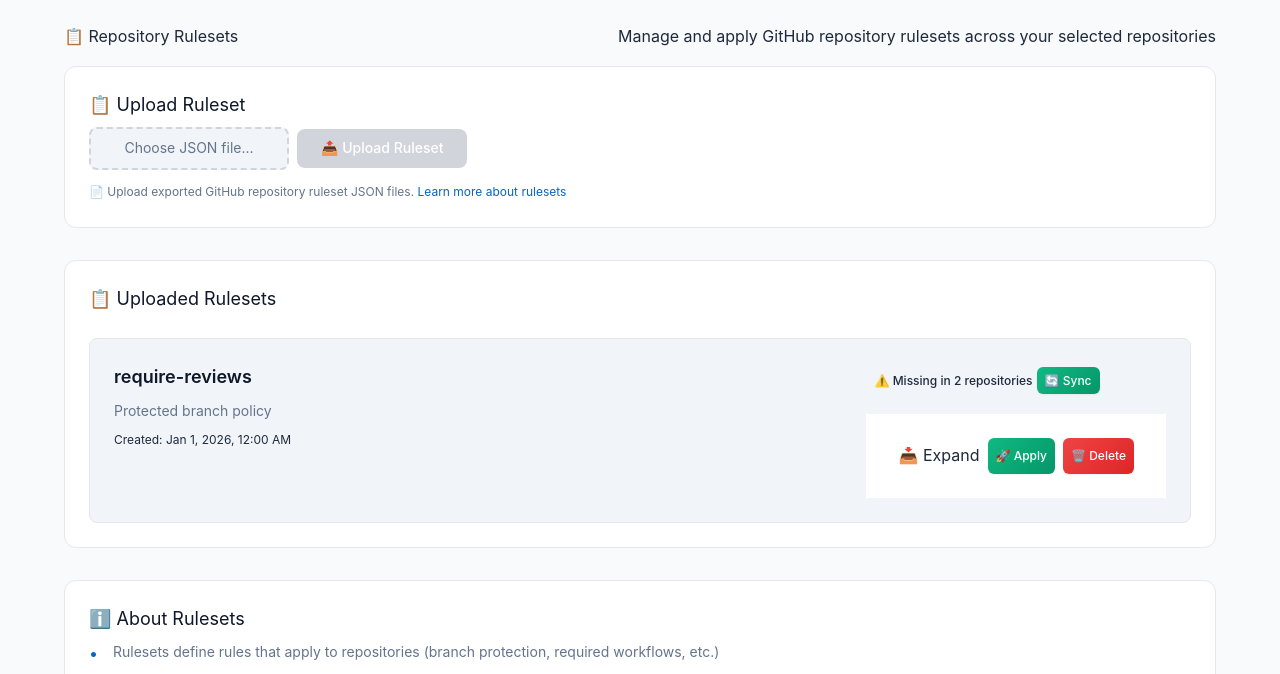
Test: RulesetManager ruleset sync › applies nothing when no repository is confirmed missing
This screenshot has width=1280, height=674.
Expected: the heading "require-reviews" is shown, [114, 366, 252, 387]
Click the button titled "Sync ruleset to missing repositories" at (1068, 381), box [1037, 367, 1100, 394]
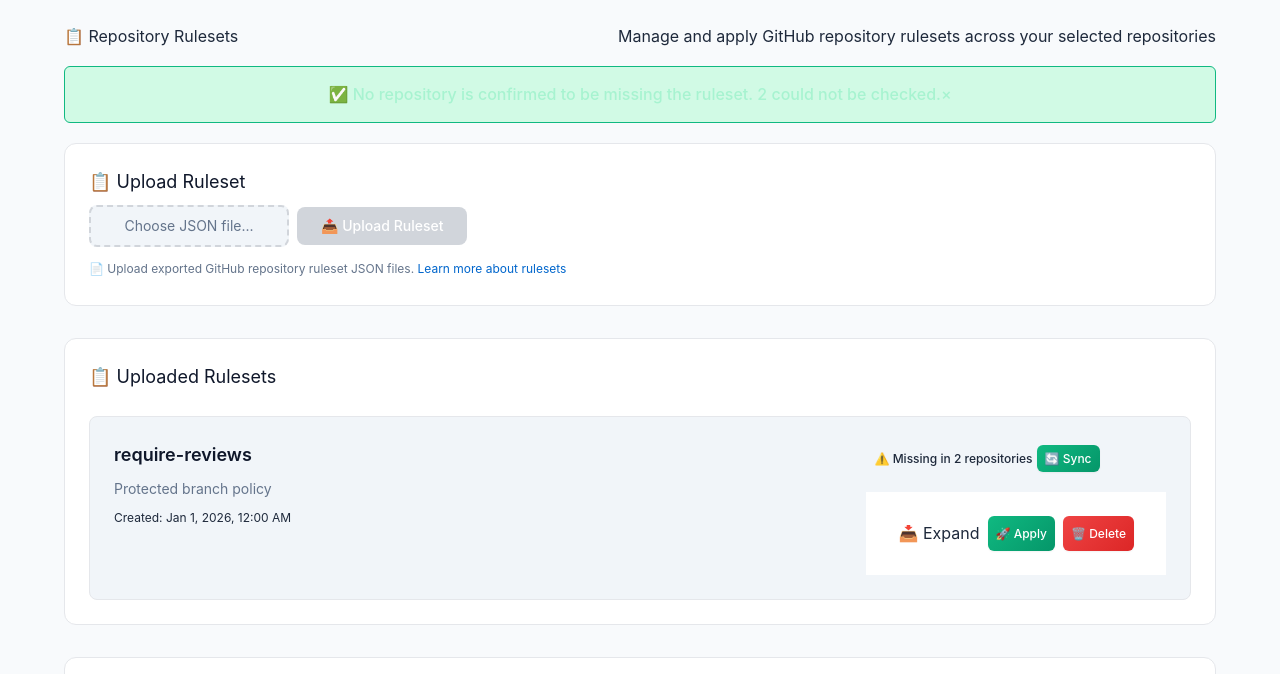
Expected: the text "No repository is confirmed to be missing" is shown, [353, 84, 941, 104]
